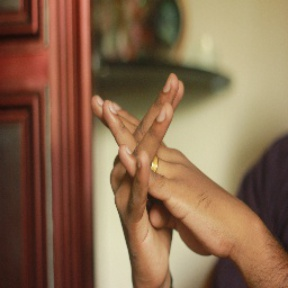W: (87, 63, 213, 246)
